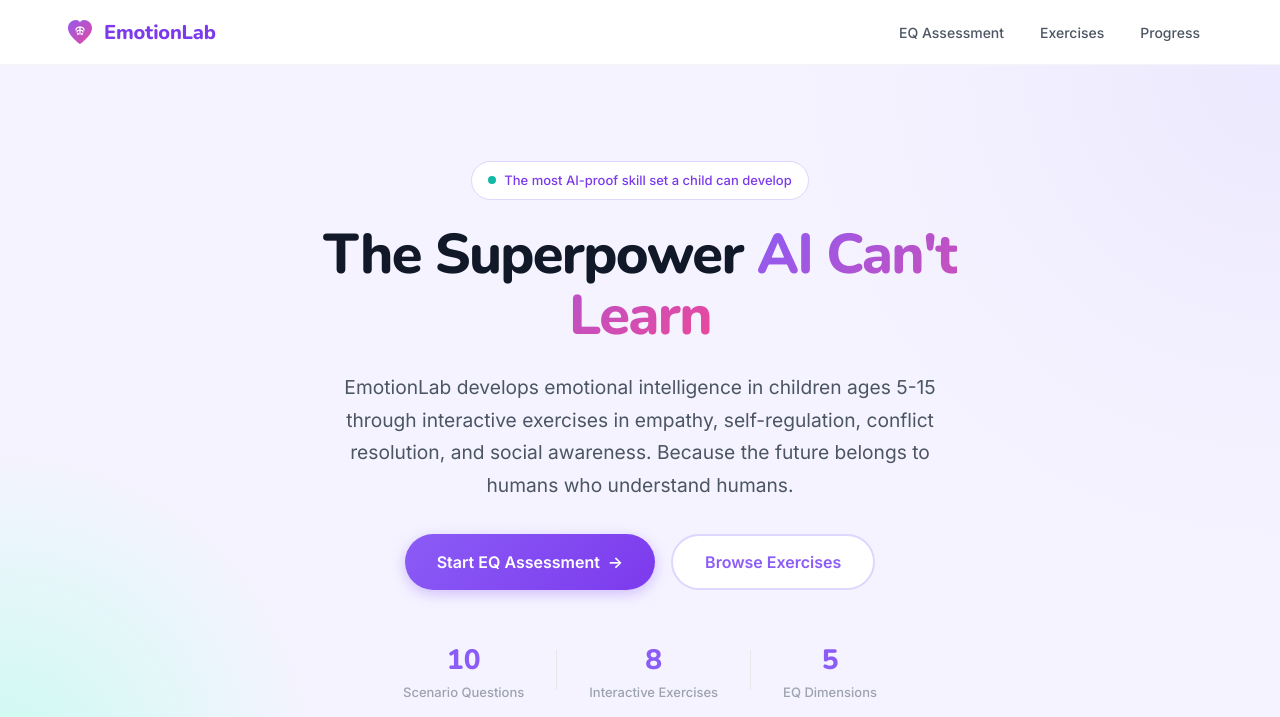
Test: App › navigates to progress page
Click the button "Progress" at [1170, 32], box [1124, 16, 1216, 48]
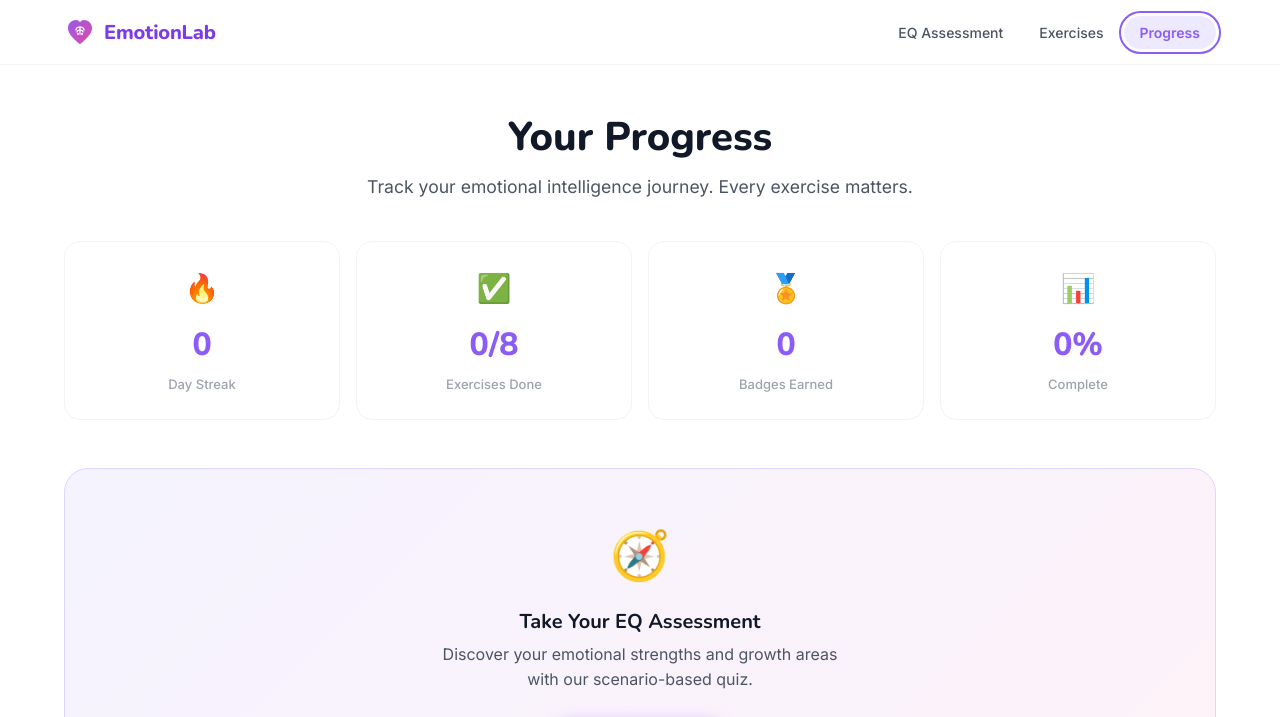
Now the heading "Your Progress" is shown, box [508, 110, 772, 164]
